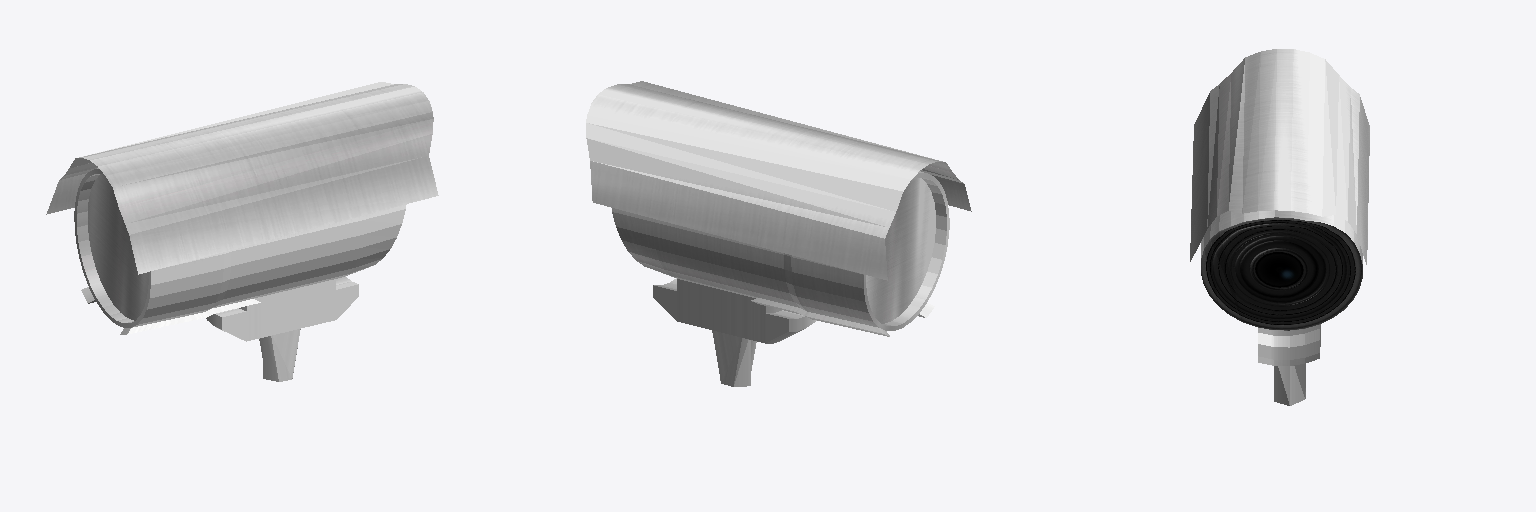
The picture shows the model from 3 angles: view 1: azimuth 30°, elevation 25°; view 2: azimuth 150°, elevation 25°; view 3: azimuth 270°, elevation 25°; orthographic projection.
Visible parts, largest first — view 1: Cylinder; view 2: Cylinder; view 3: Cylinder.
Boxes of the visible parts, x1=… form: Cylinder: x1=46, y1=82, x2=438, y2=381; Cylinder: x1=586, y1=81, x2=971, y2=386; Cylinder: x1=1190, y1=49, x2=1369, y2=405.
Size of the model in its own units: 2.99 by 2.24 by 1.42.
Materials: 1 (1 with a texture image).